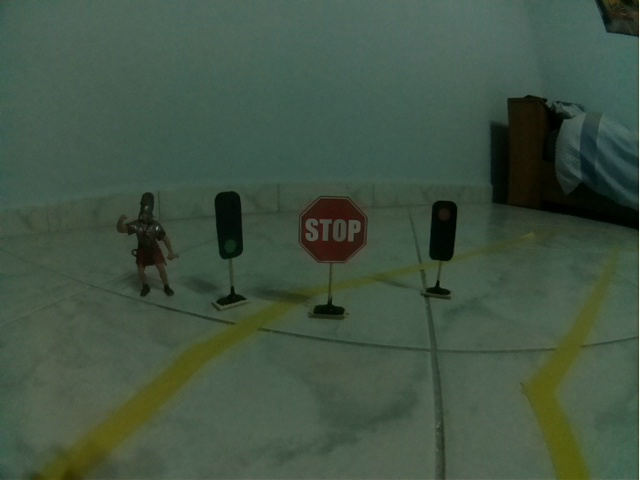Green Traffic Light: (214, 191, 244, 260)
Person: (116, 191, 181, 298)
Red Traffic Light: (430, 200, 458, 263)
Stop: (297, 195, 369, 264)
